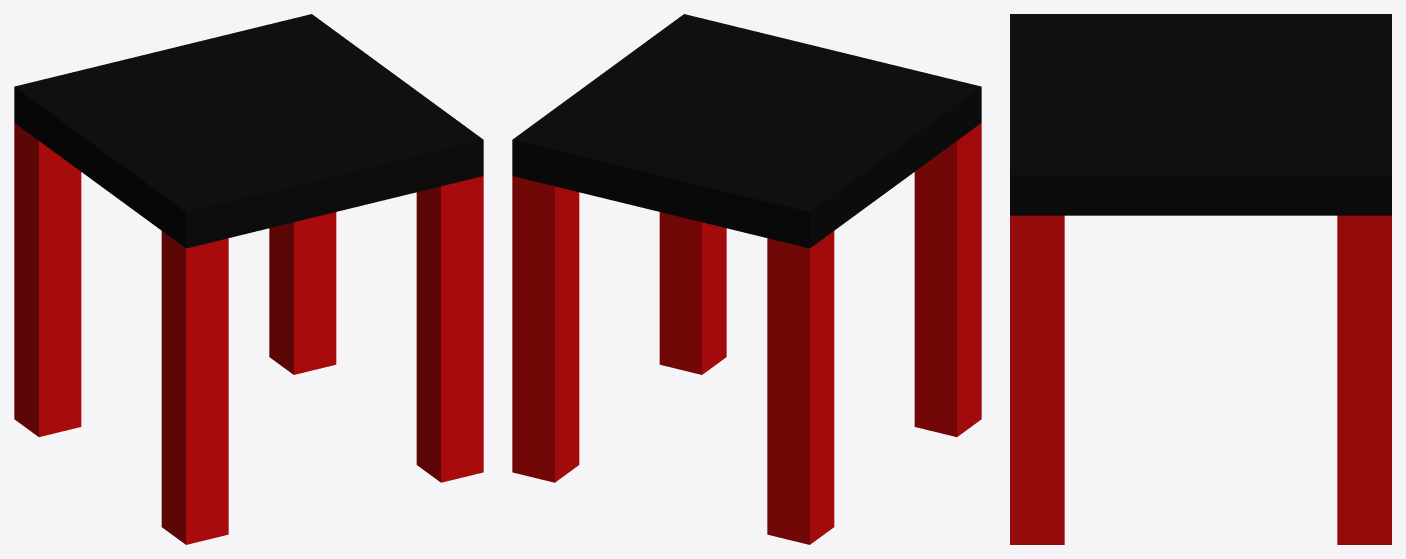
File: Stol.v1.fbx
3 renders of one model, left to right at view 1: azimuth 30°, elevation 25°; view 2: azimuth 150°, elevation 25°; view 3: azimuth 270°, elevation 25°, orthographic. The views are drawn at different scales.
Visible parts, largest first — view 1: Stool; view 2: Stool; view 3: Stool.
Boxes of the visible parts, x1,y1,x2,y2 form: Stool: [14, 14, 483, 544]; Stool: [512, 14, 981, 544]; Stool: [1010, 14, 1391, 544].
Size of the model in its own units: 0.6187 by 0.6612 by 0.6187.
